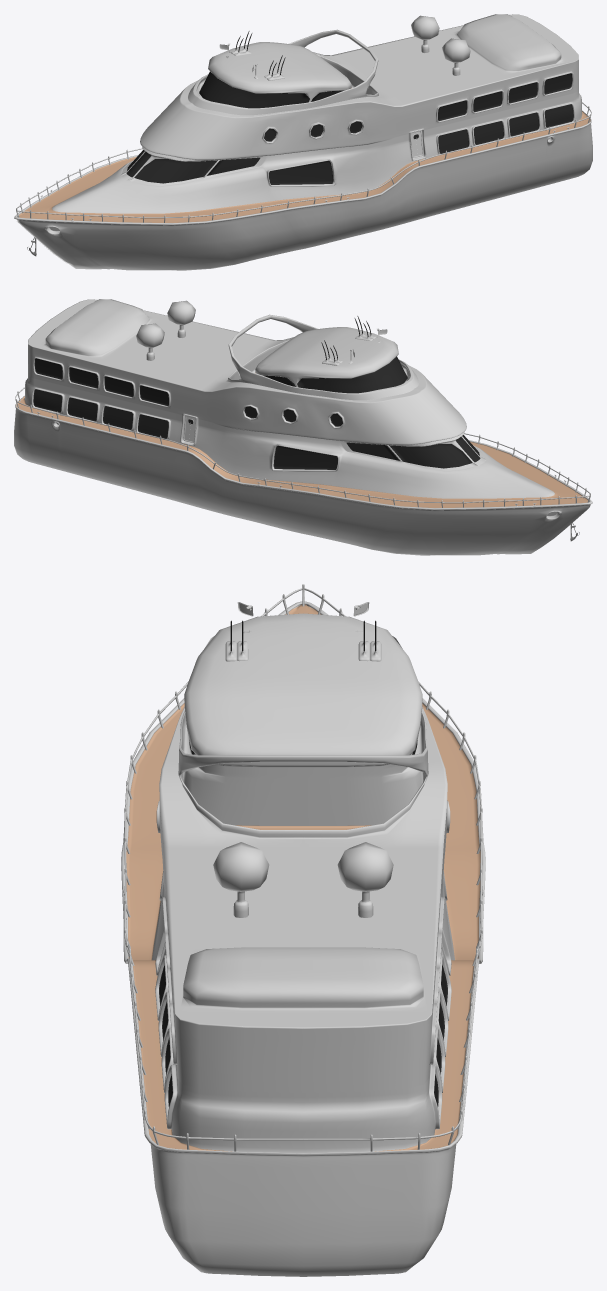
Rendered from 2yatcht.glb.
3 renders of one model, top to bottom at view 1: azimuth 30°, elevation 25°; view 2: azimuth 150°, elevation 25°; view 3: azimuth 270°, elevation 25°, orthographic. The views are drawn at different scales.
Parts seen in each view (by area): view 1: Yacht; view 2: Yacht; view 3: Yacht.
Part boxes in pixels (x1,y1,x2,y2): Yacht: (14,14,592,270); Yacht: (14,299,592,555); Yacht: (121,584,485,1276).
Bounding box in the file's own units: 16.63 × 5.32 × 4.76.
